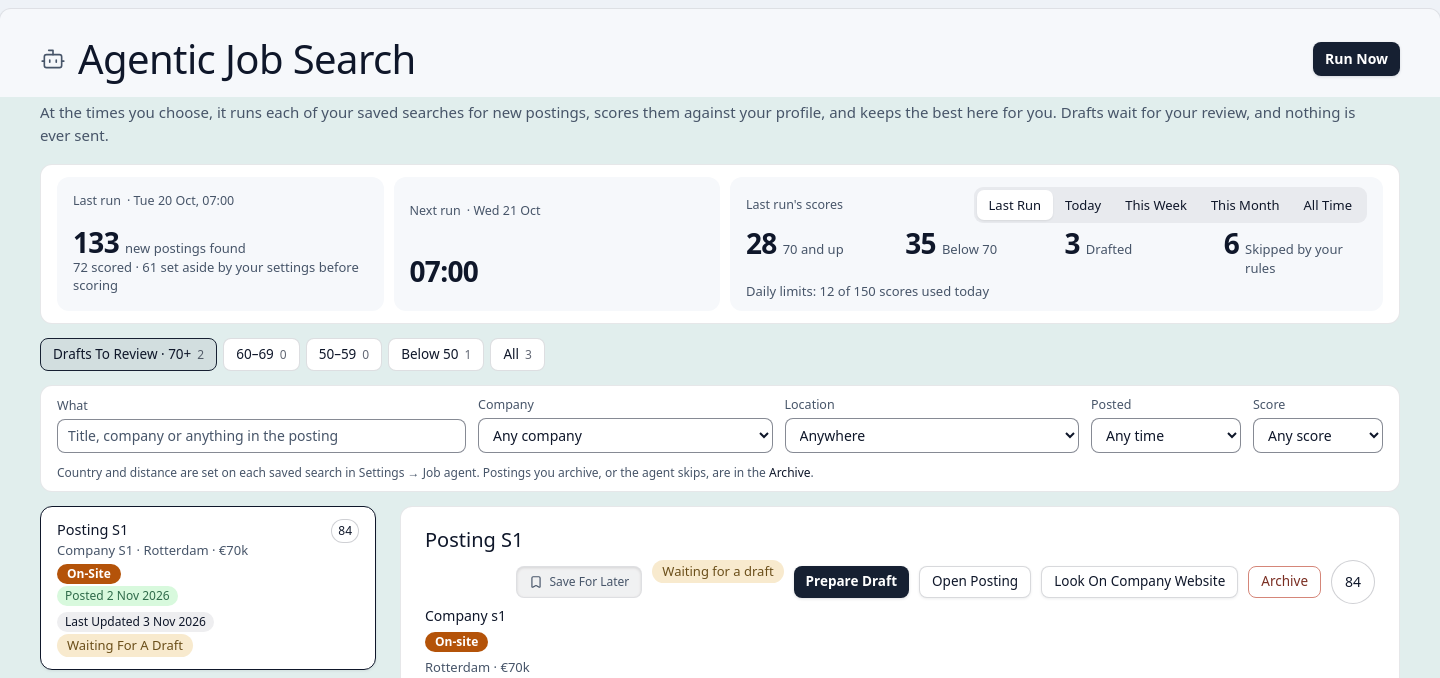
Test: AgentScreen (E16-6) › prepares a draft from a scored posting
Step 1. Click the button "Drafts to review · 70+ 2" → click(129, 354), box [40,338,217,371]
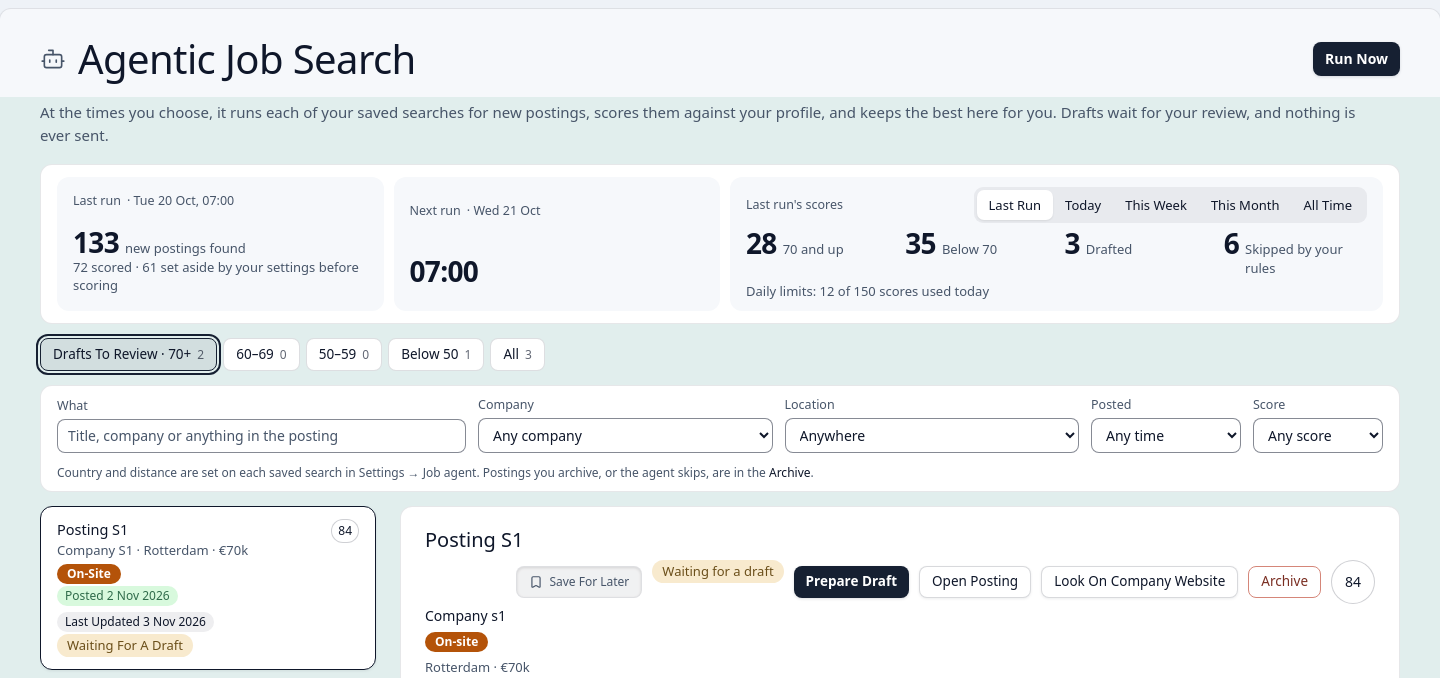
Step 2. Click the button "Prepare draft" → click(851, 582), box [794,566,909,598]
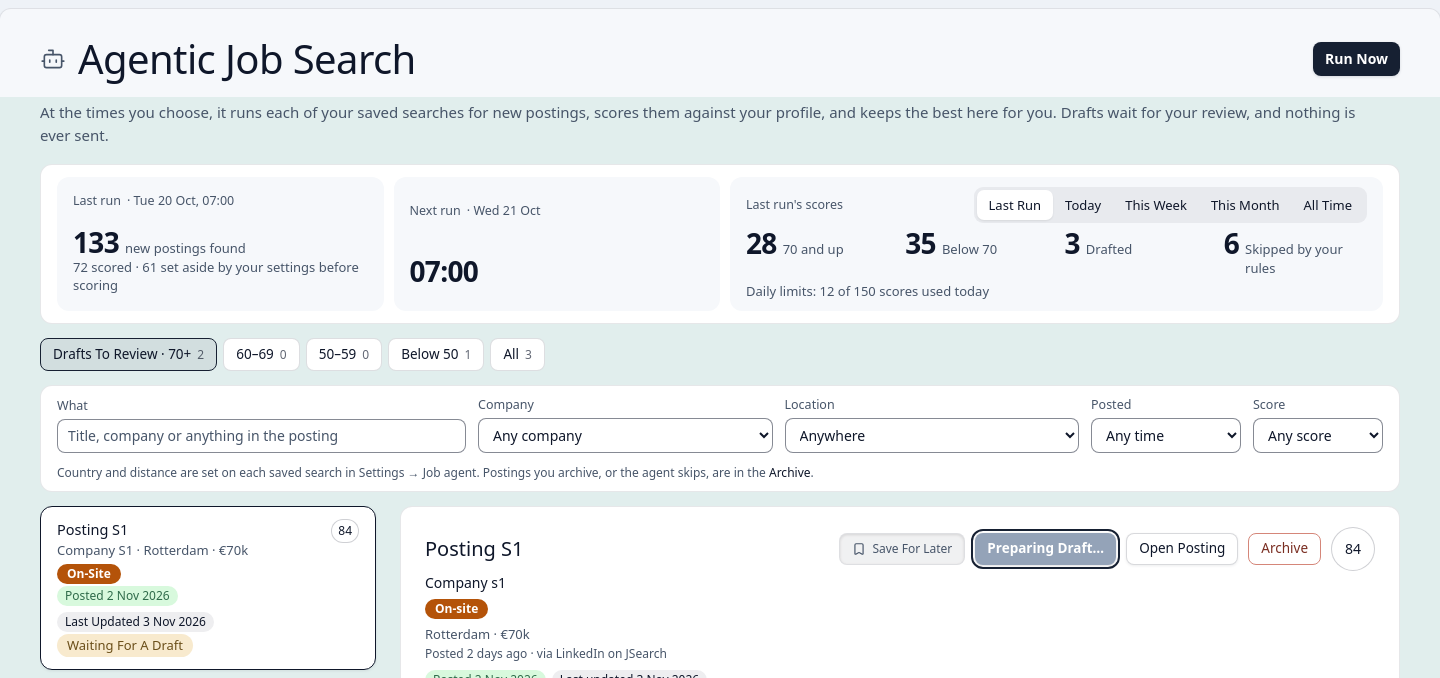
Now the button "Preparing draft…" is shown, box [975,533,1116,565]
